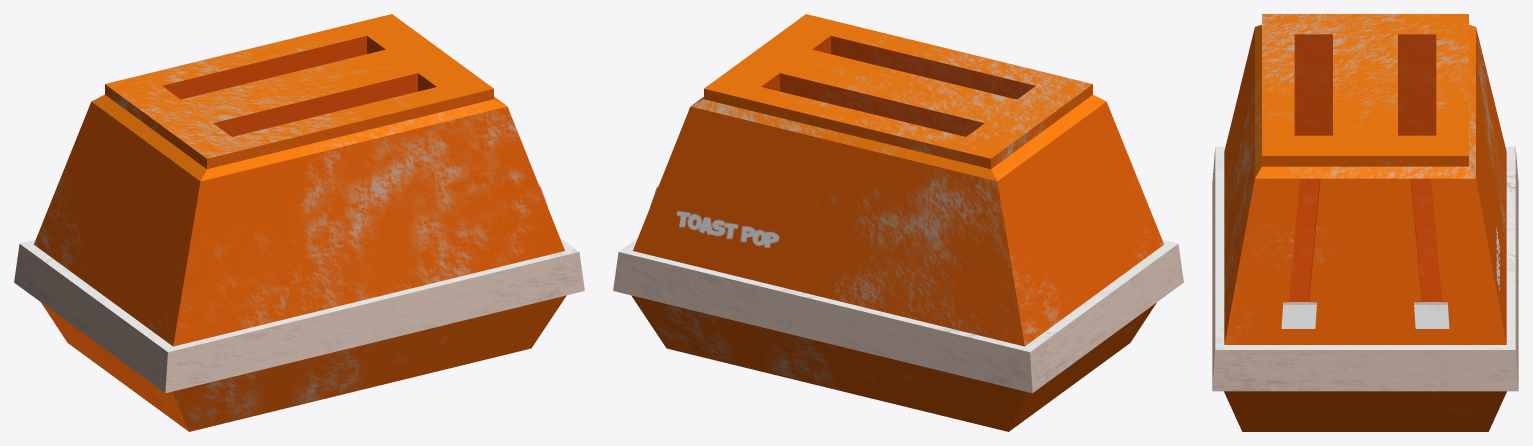
The model's file is 토스터.fbx.
3 renders of one model, left to right at view 1: azimuth 30°, elevation 25°; view 2: azimuth 150°, elevation 25°; view 3: azimuth 270°, elevation 25°, orthographic.
Parts seen in each view (by area): view 1: 토스터; view 2: 토스터; view 3: 토스터.
Part boxes in pixels (x1,y1,x2,y2): 토스터: [14, 14, 584, 431]; 토스터: [613, 14, 1183, 431]; 토스터: [1212, 14, 1518, 431].
Bounding box in the file's own units: 327 × 193 × 205.
1 material, 1 textured.
